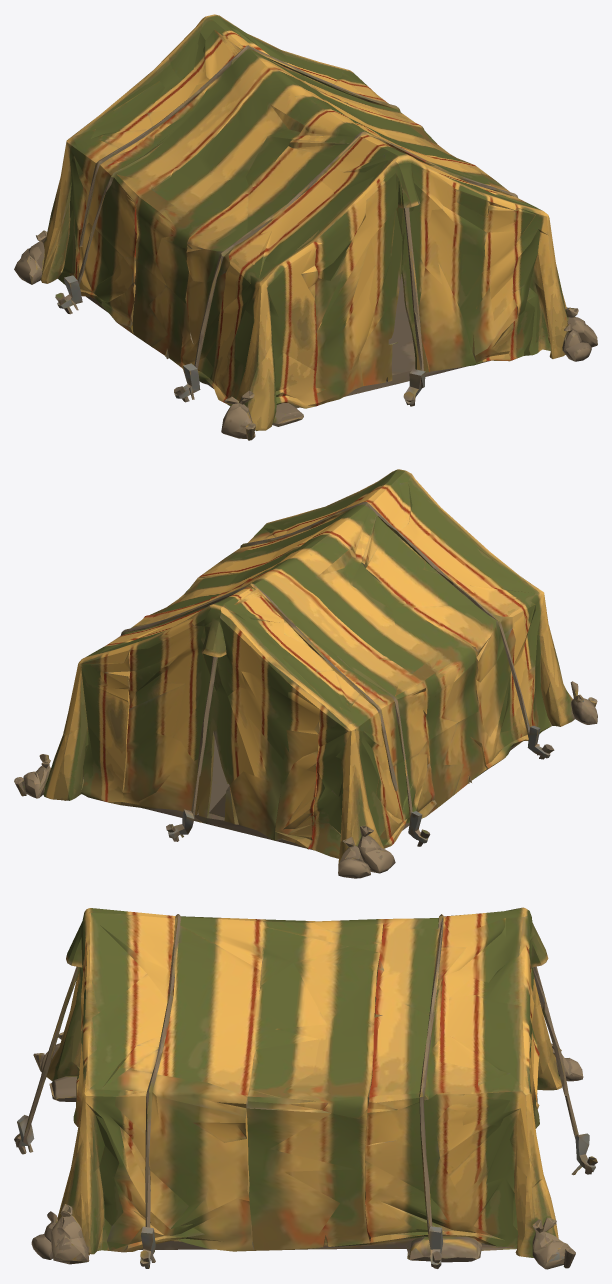
File: pest.glb
The picture shows the model from 3 angles, top to bottom: view 1: azimuth 30°, elevation 25°; view 2: azimuth 150°, elevation 25°; view 3: azimuth 270°, elevation 25°; orthographic projection. The views are drawn at different scales.
Visible parts, largest first — view 1: placed; view 2: placed; view 3: placed.
Part boxes in pixels (box(x1,y1,x2,y2)): placed: box(14, 14, 597, 440); placed: box(14, 469, 597, 878); placed: box(14, 907, 597, 1269).
Size of the model in its own units: 12.08 by 6.92 by 14.
1 material, 1 textured.
